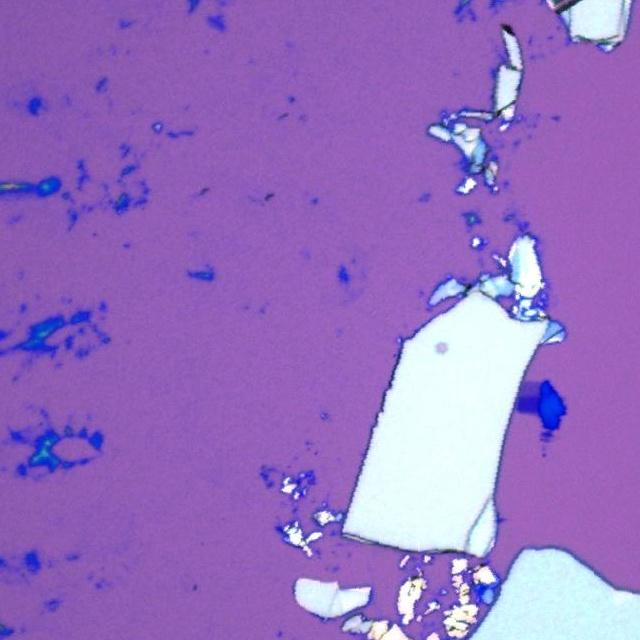monolayer-eWW4: (520, 380, 540, 397)
